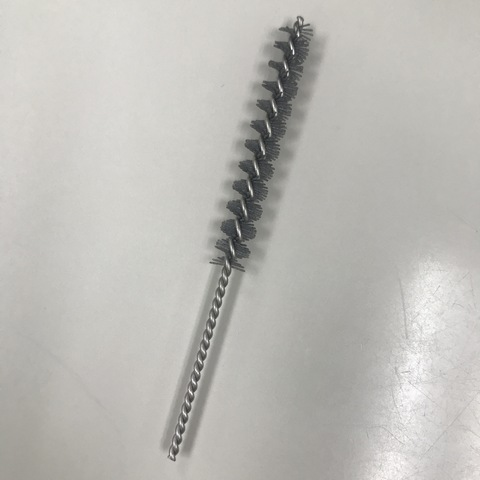Twist Brush-A: (165, 12, 320, 462)
